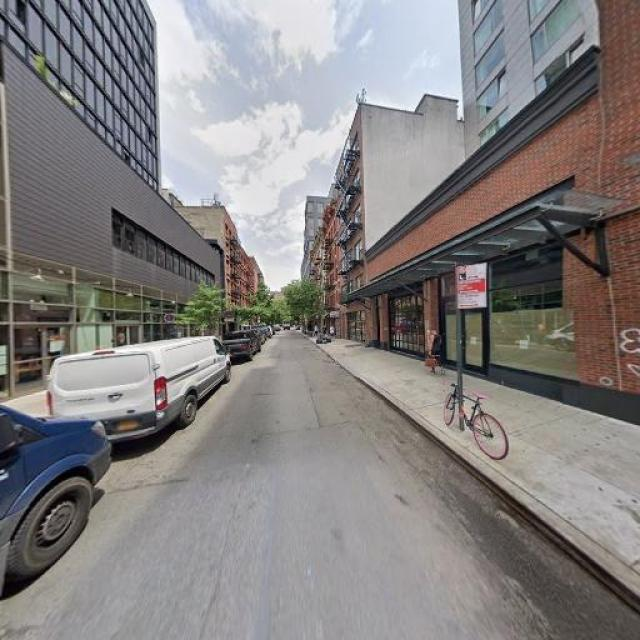Building: (367, 1, 640, 429), (1, 42, 222, 398)
